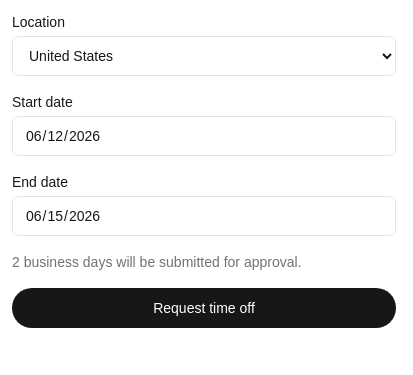
it: TimeOffRequestForm › blocks requests crossing the fiscal year boundary
Type "2026-12-30" into the date field labelled "Start date" at (204, 136), box [12,116,396,156]
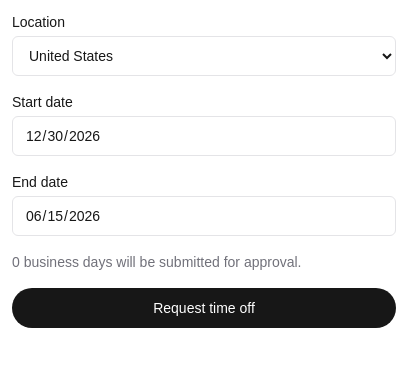
Type "2027-01-02" into the date field labelled "End date" at (204, 216), box [12,196,396,236]
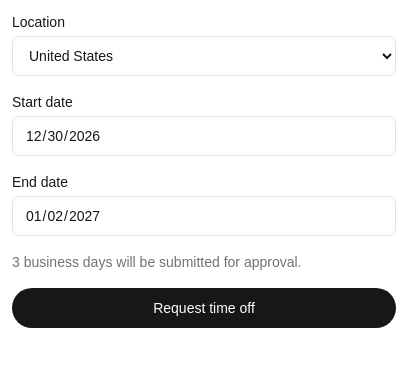
Click the button "Request time off" at (204, 308), box [12,288,396,328]
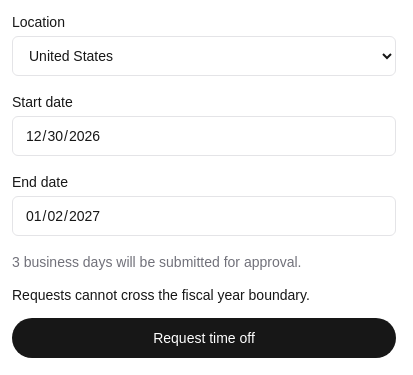
Expected: the text "Requests cannot cross the fiscal year boundary." is shown, [12,287,310,303]
